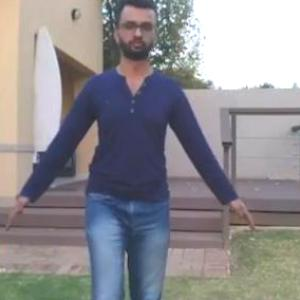land: (6, 30, 238, 299)
